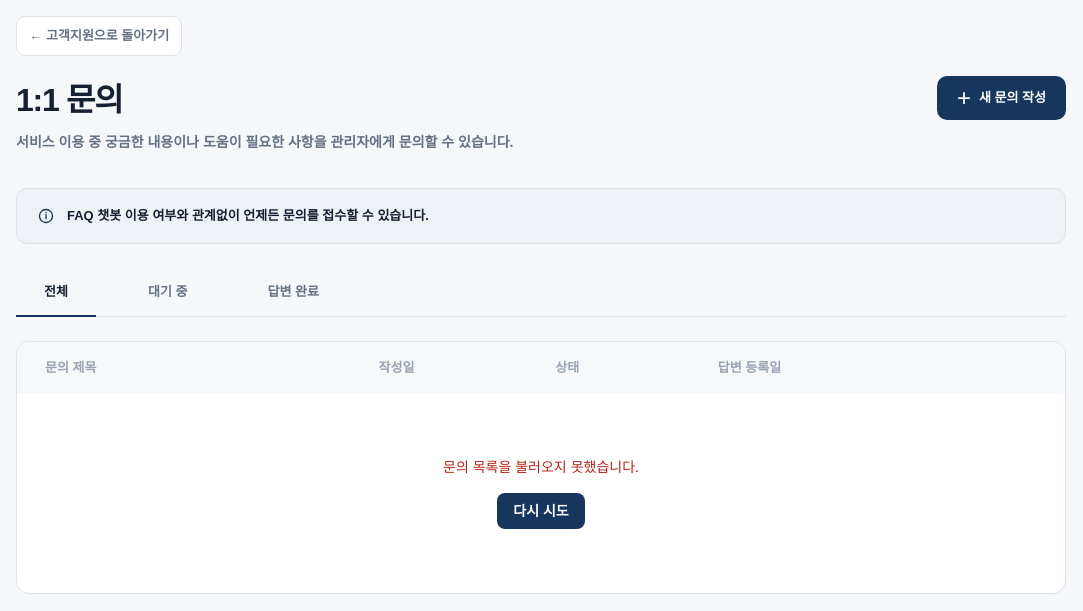
Test: InquiryList › 조회 실패 후 다시 시도할 수 있다
Expected: the message shows "문의 목록을 불러오지 못했습니다.", [443,459,639,475]
What coordinates should you click on to do the following:
click the button "다시 시도"
I would click on:
 (541, 511)
Its box is [497,493,585,529].
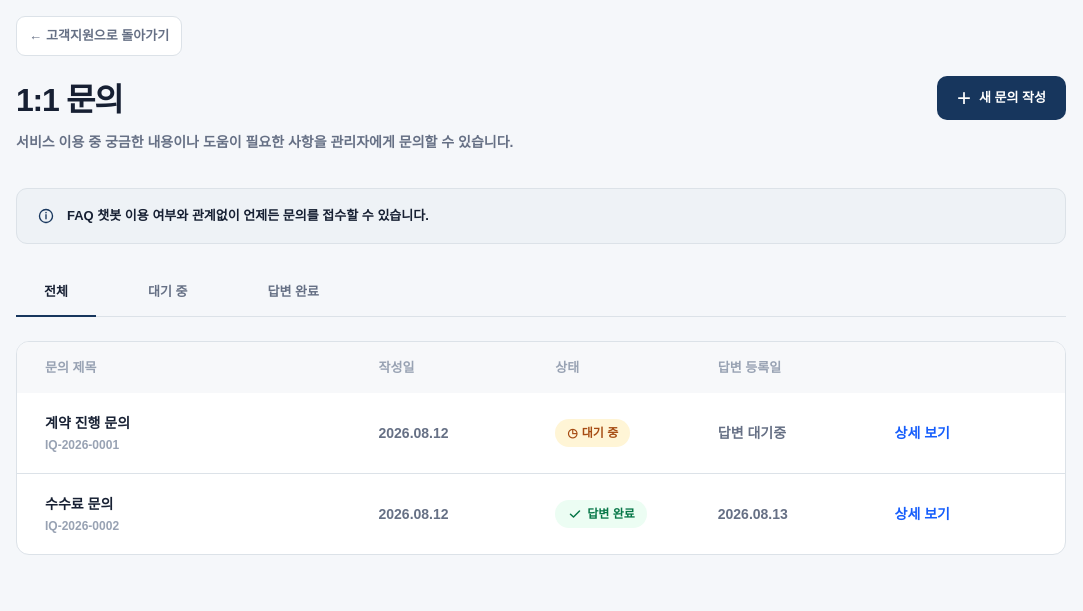
Result: the text "계약 진행 문의" is shown at [45,415,130,431]
